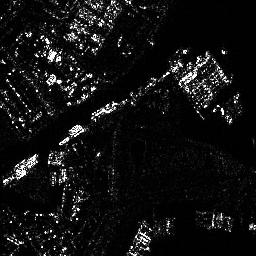ship: (11, 154, 40, 174), (88, 100, 116, 120)
